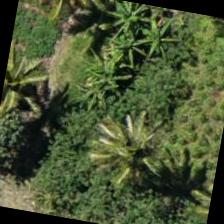Kelapa_Sawit: (82, 107, 186, 212), (0, 38, 59, 136)
